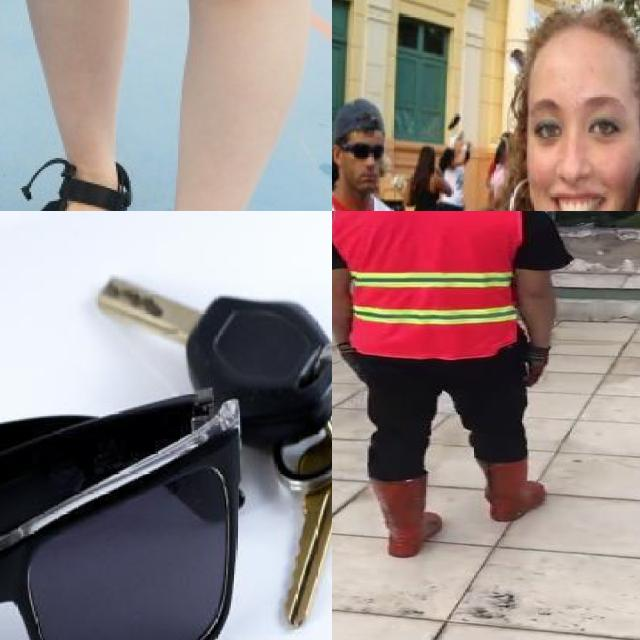Sandals: (0, 133, 132, 211)
boots: (366, 478, 444, 557), (477, 459, 547, 524)
face_nomask: (521, 106, 626, 211), (348, 144, 386, 190)
glasses: (0, 289, 294, 640), (342, 138, 388, 164)
hand_glove: (522, 341, 549, 387)
head_nohelmet: (521, 5, 640, 76), (332, 91, 392, 147)
person: (332, 211, 592, 566), (410, 0, 640, 211), (332, 80, 422, 211)
vest: (333, 211, 522, 359)
